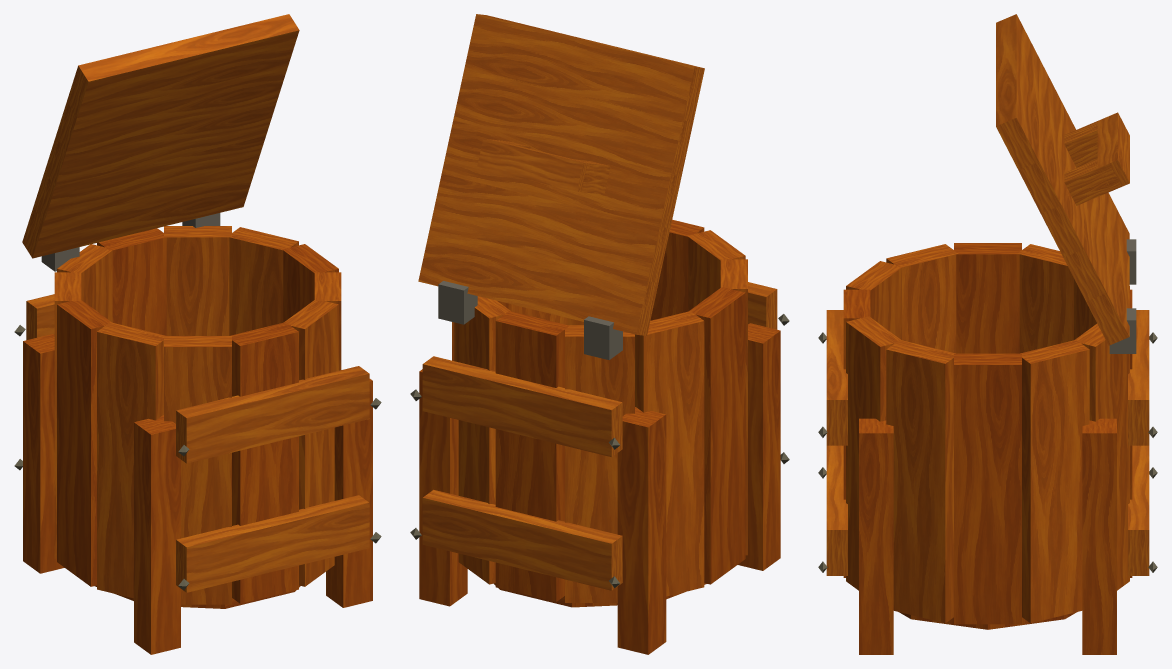
The model's file is compost-barrel.gltf.
3 renders of one model, left to right at view 1: azimuth 30°, elevation 25°; view 2: azimuth 150°, elevation 25°; view 3: azimuth 270°, elevation 25°, orthographic. The views are drawn at different scales.
Visible parts, largest first — view 1: compost-barrel; view 2: compost-barrel; view 3: compost-barrel.
Boxes of the visible parts, x1,y1,x2,y2 form: compost-barrel: (14, 14, 381, 654); compost-barrel: (410, 14, 789, 654); compost-barrel: (818, 14, 1157, 654).
Size of the model in its own units: 0.705 by 1.44 by 0.8304.
Materials: 2 (1 with a texture image).
